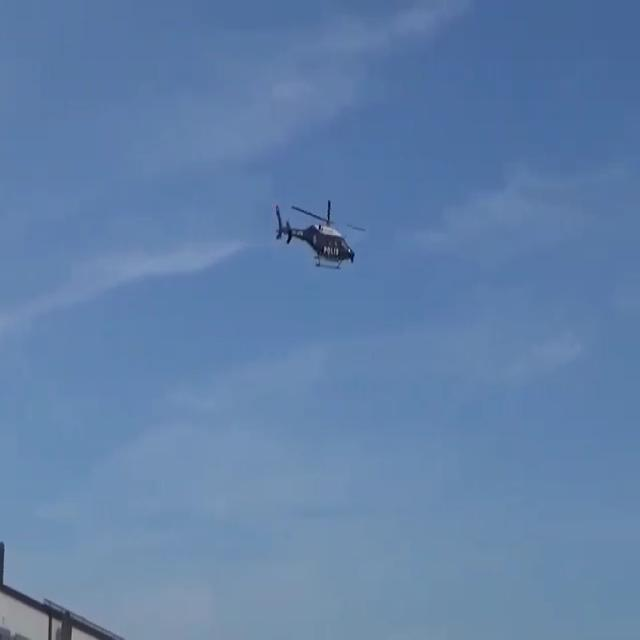Helicopter: (262, 171, 371, 307)
